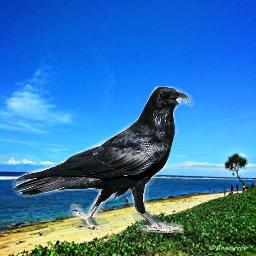Crow: (12, 86, 195, 233)
